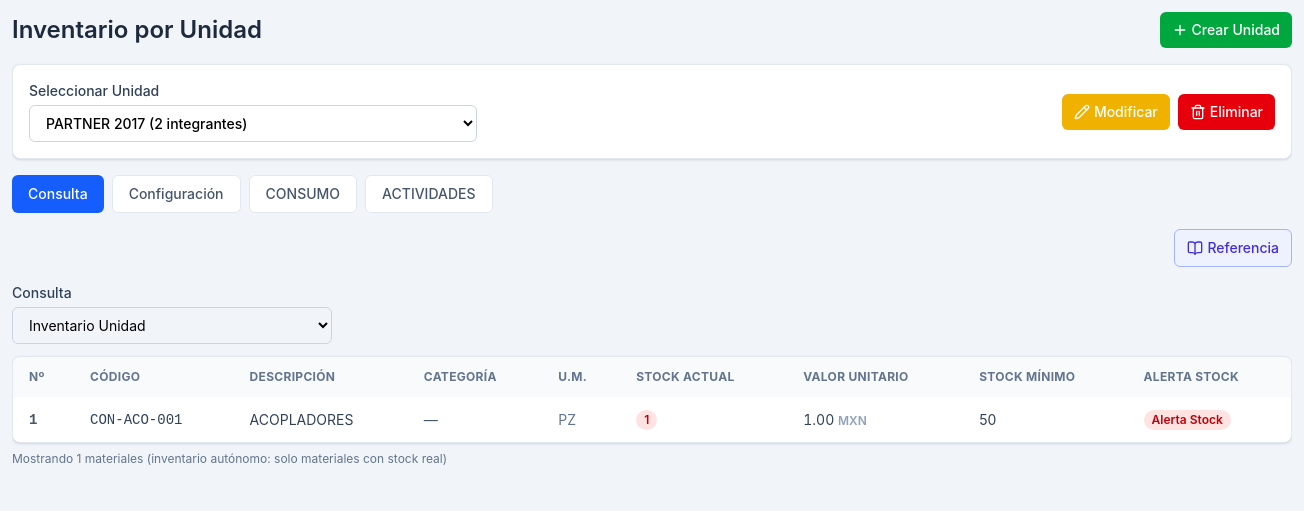
Scenario: Consulta de Unidad (RF-9..RF-16) › RF-13 REQ-UNI-014: al cambiar de unidad el select vuelve a "Inventario Unidad"
Select "Integrantes" in the dropdown labelled "Consulta" at x=172, y=326, box [12,307,332,344]
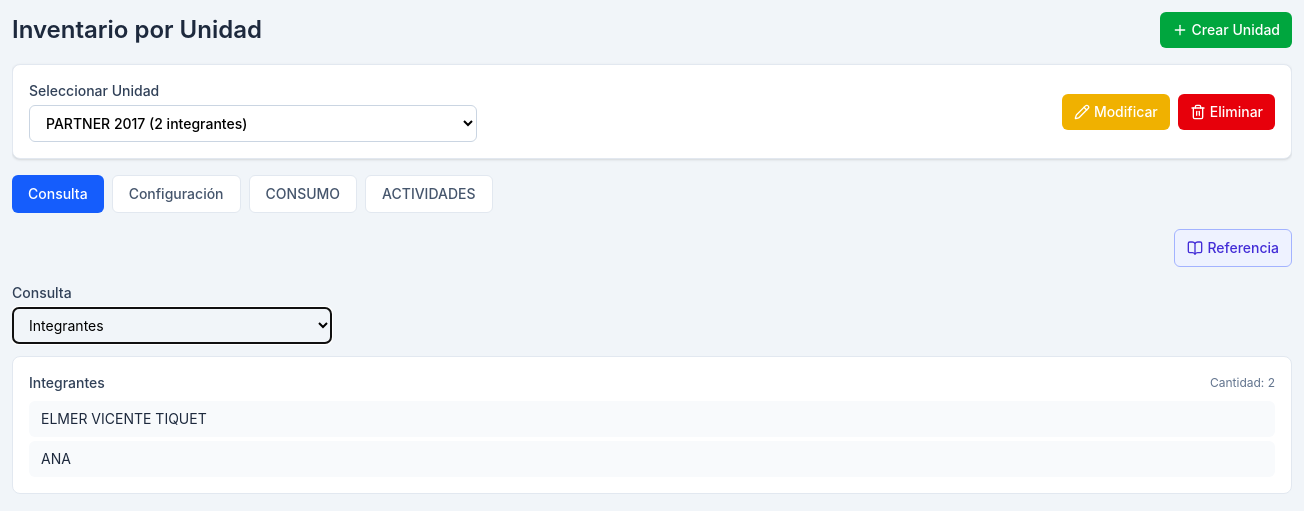
Select "SIN DATOS (0 integrantes)" in the dropdown labelled "Seleccionar Unidad" at x=253, y=124, box [29,105,477,142]
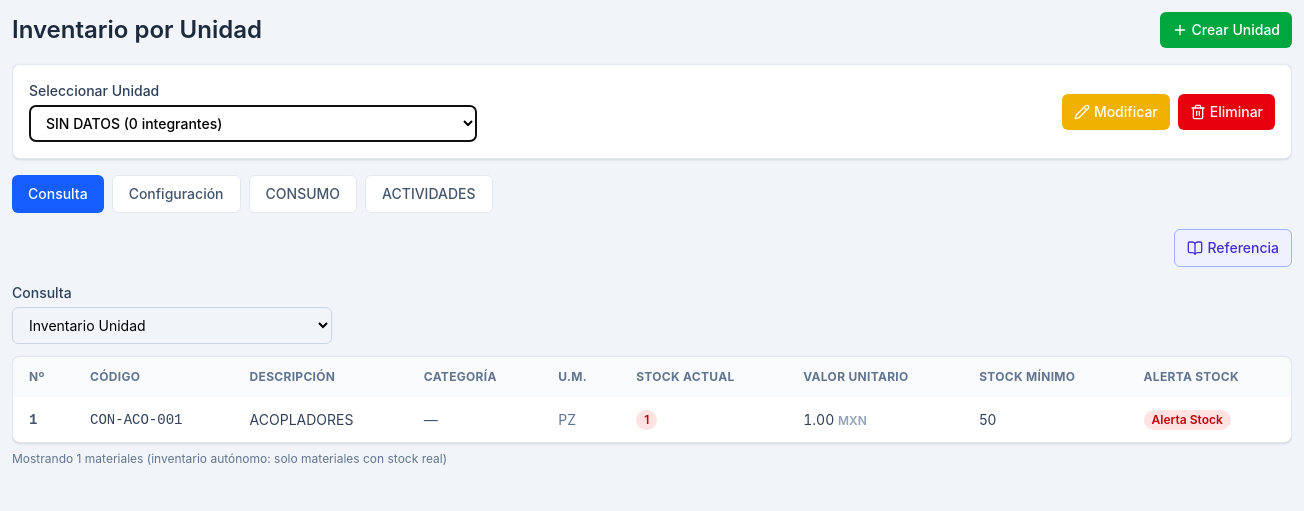
Now the list with test id "unidad-integrantes" is gone
